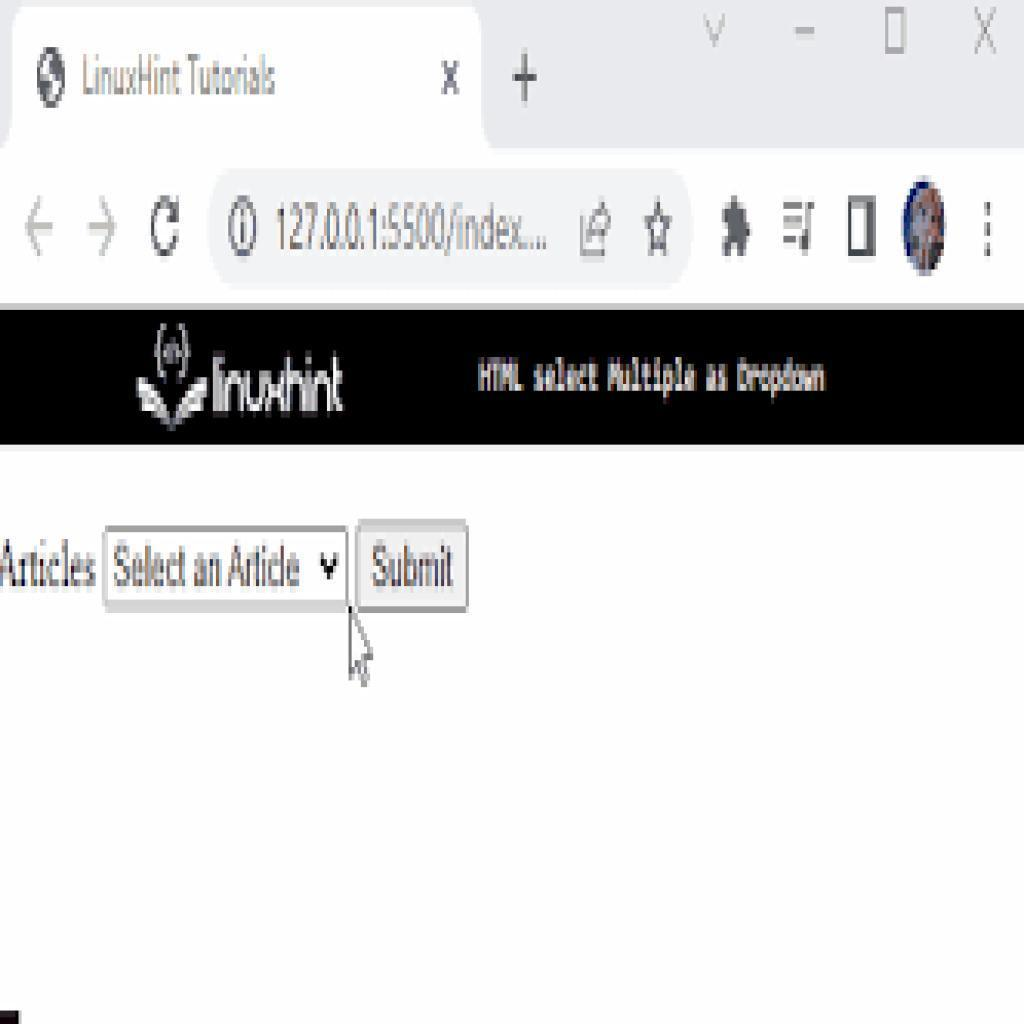button: (356, 524, 470, 611)
dropdown: (103, 527, 349, 612)
label: (142, 192, 187, 265), (574, 198, 618, 267), (718, 191, 755, 266), (84, 191, 121, 265), (845, 192, 883, 263), (640, 197, 679, 266), (780, 192, 818, 262), (37, 45, 71, 113), (22, 192, 55, 261), (692, 11, 737, 51), (967, 7, 1001, 59), (975, 197, 1000, 262), (785, 15, 827, 53), (434, 54, 465, 104), (511, 54, 543, 102)
